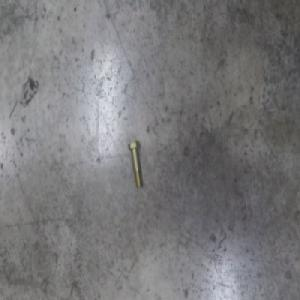Bolt: (128, 138, 143, 188)
